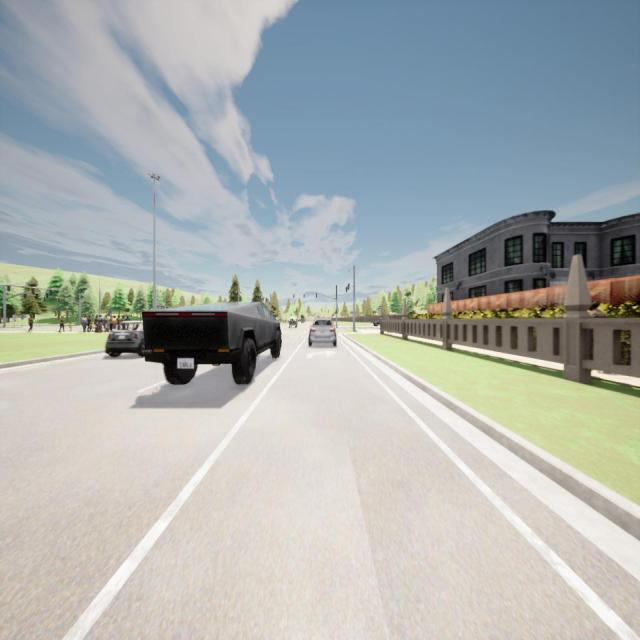Pedestrian: (59, 313, 65, 333), (81, 314, 87, 333), (28, 314, 34, 332), (87, 314, 92, 332), (103, 315, 108, 332), (99, 315, 103, 332), (116, 314, 120, 330), (121, 314, 125, 329), (109, 313, 112, 332), (126, 315, 130, 329), (95, 314, 98, 332), (113, 315, 116, 329), (69, 323, 73, 332)
Vehicle: (142, 301, 281, 384), (105, 320, 143, 357), (308, 319, 338, 347), (288, 316, 298, 328), (373, 319, 380, 326)
traffic_light: (7, 286, 10, 292), (346, 286, 348, 293), (348, 283, 350, 290), (32, 288, 34, 294), (36, 293, 38, 299), (46, 293, 48, 298), (50, 290, 52, 295), (303, 294, 305, 298), (293, 294, 295, 298), (24, 294, 26, 298), (316, 293, 317, 298)
